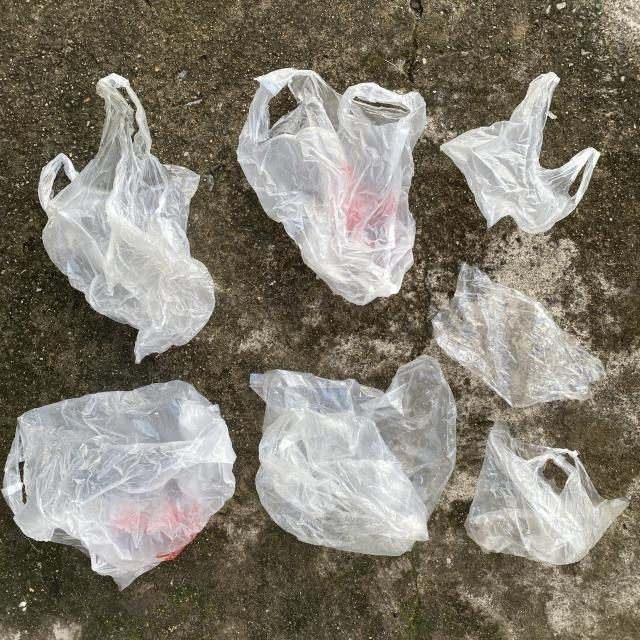Single-layer Plastic: (39, 74, 215, 362), (2, 380, 235, 590), (238, 69, 426, 305), (250, 355, 456, 556), (441, 72, 600, 234), (432, 264, 605, 408), (465, 420, 629, 565)
